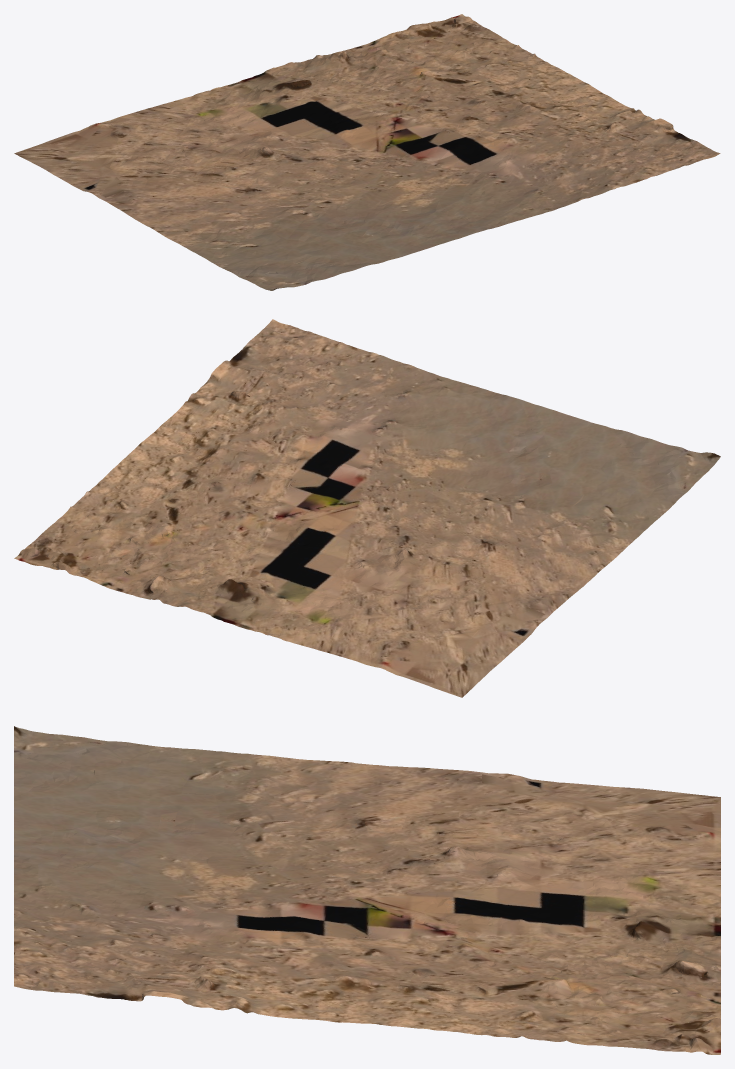
3 views of the same model, one above another, from view 1: azimuth 30°, elevation 25°; view 2: azimuth 150°, elevation 25°; view 3: azimuth 270°, elevation 25° (orthographic). The views are drawn at different scales.
Bounding box in the file's own units: 16.71 × 2.86 × 16.71.
2 materials, 2 textured.
